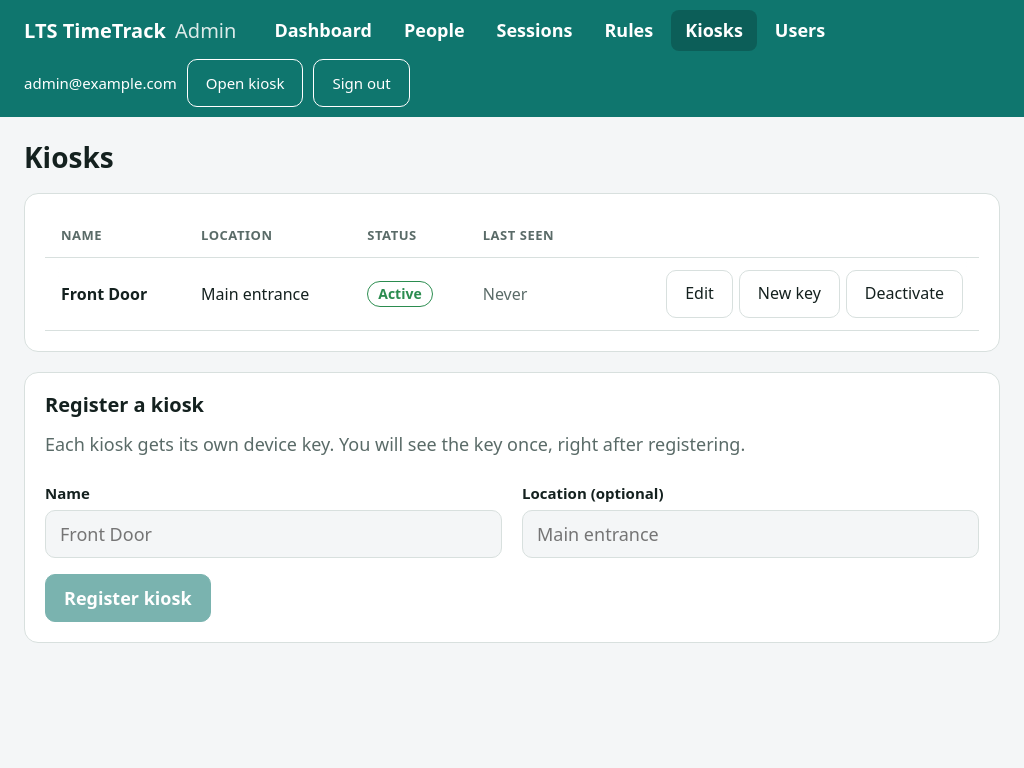
Test case: kiosks page › deactivates only after confirmation, and reactivates without asking
This screenshot has width=1024, height=768.
Click the button with aria-label "Deactivate Front Door": point(904, 294) [846,270,963,318]
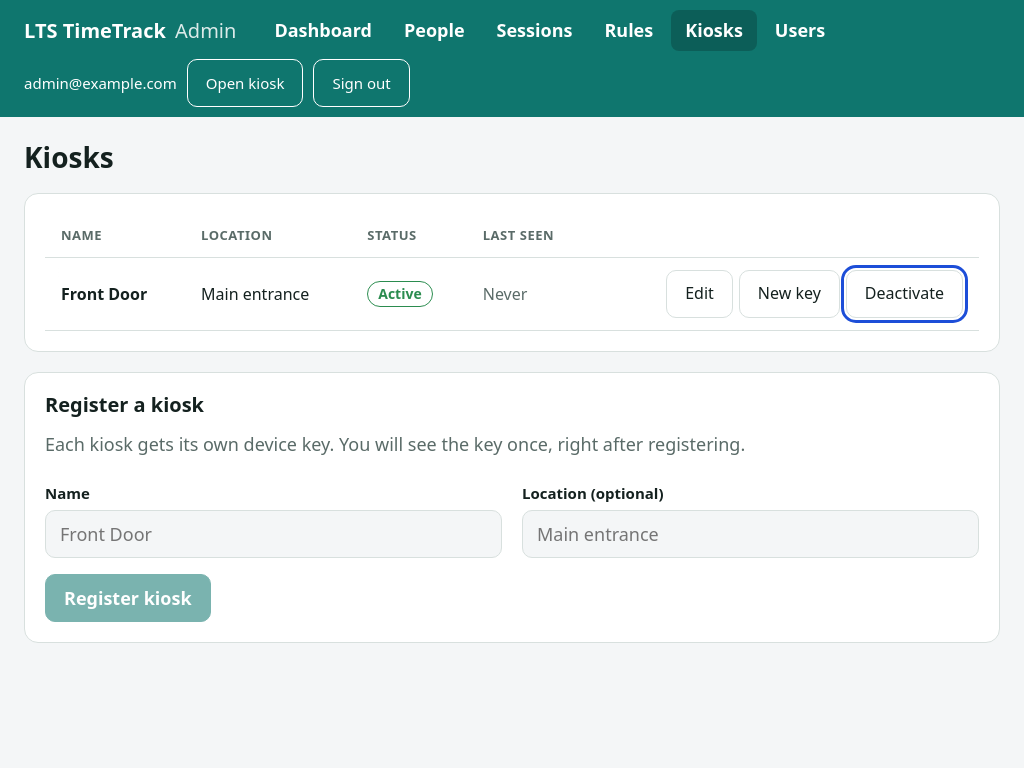
Click the button with aria-label "Deactivate Front Door": point(904, 294) [846,270,963,318]
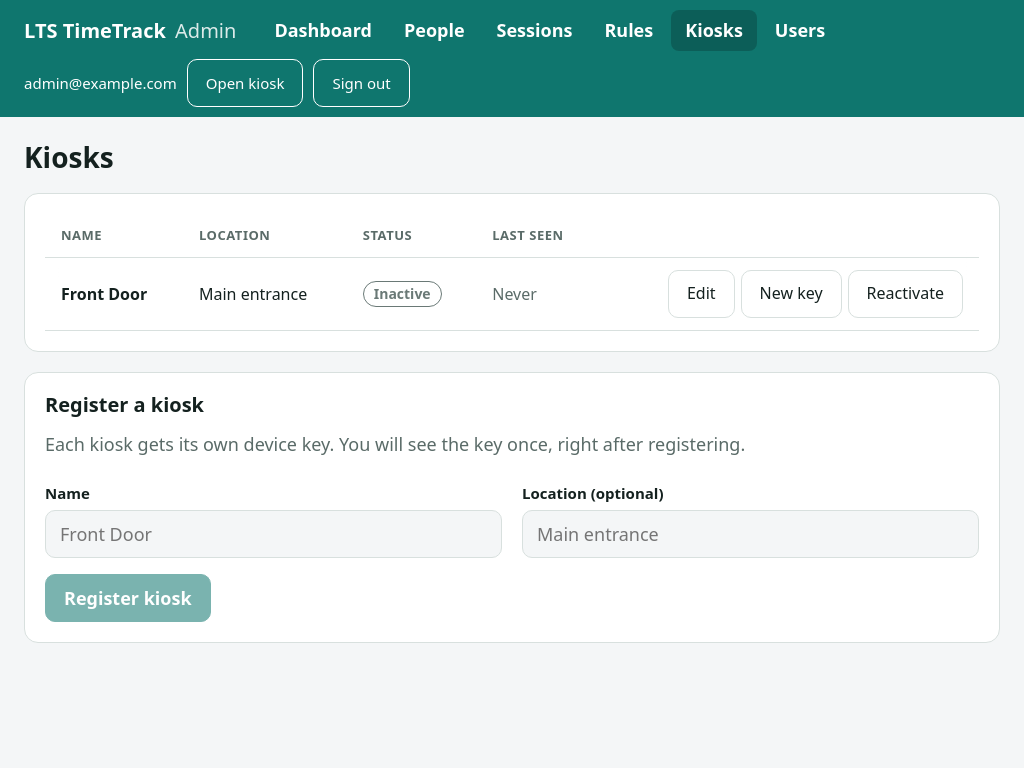
Result: the button with aria-label "Reactivate Front Door" is shown
Click the button with aria-label "Reactivate Front Door": point(905, 294) [848,270,963,318]
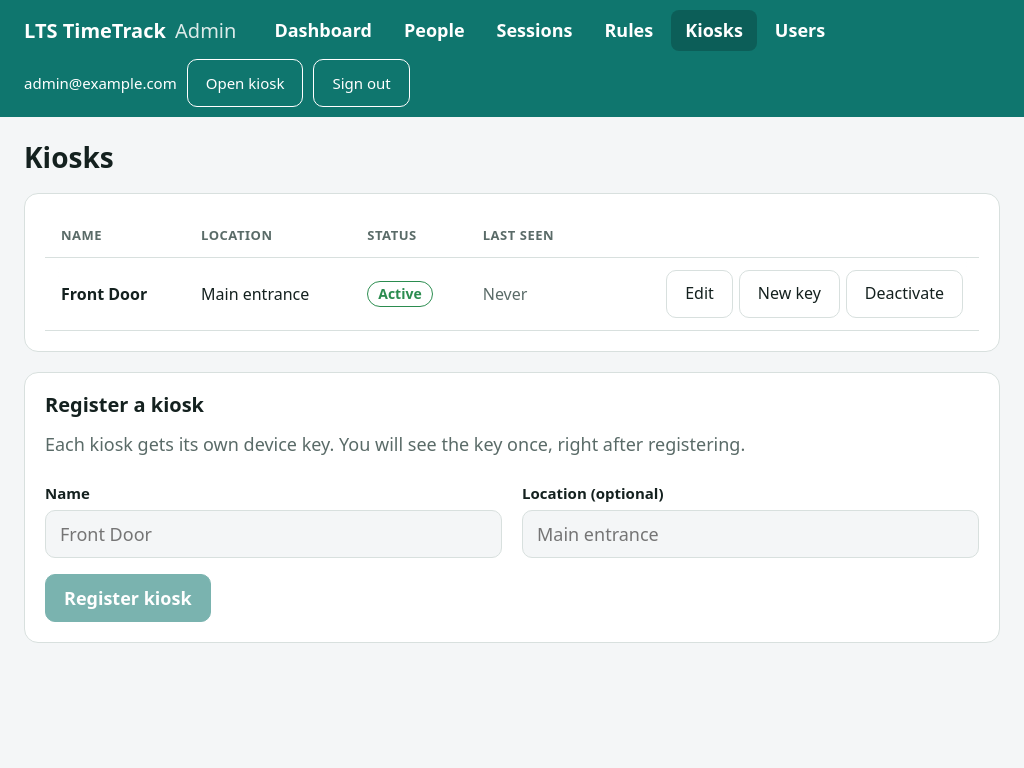
Result: the button with aria-label "Deactivate Front Door" is shown at [846,270,963,318]
